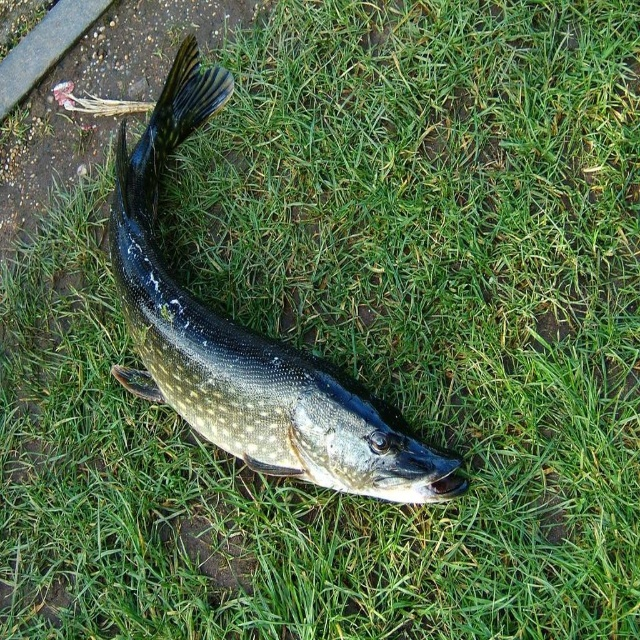Fish: (86, 61, 453, 518)
